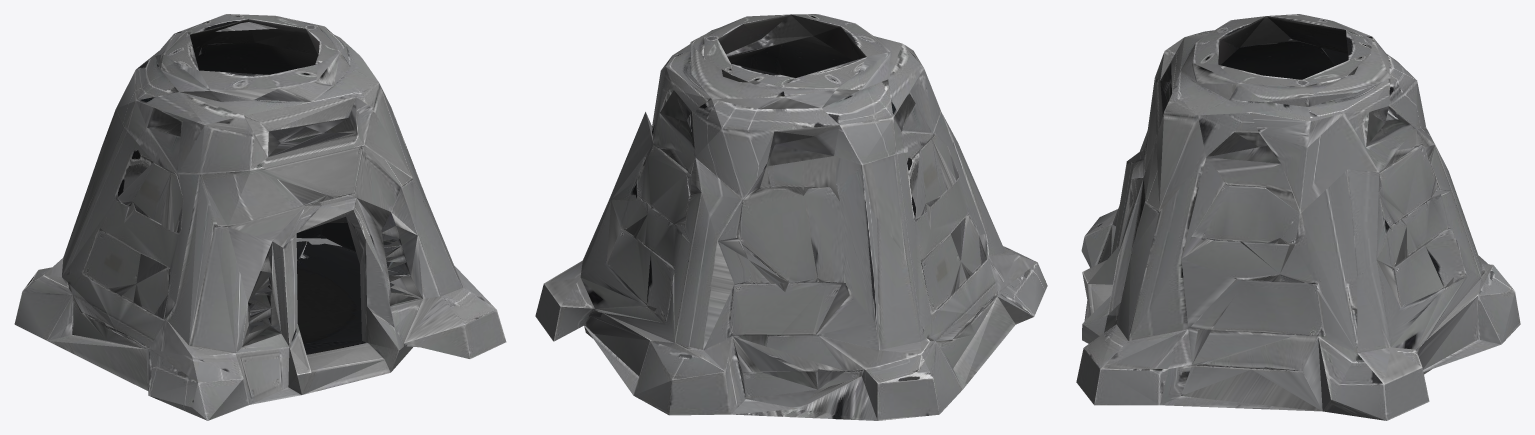
File: shared_flak_tower_large_option_lod1.glb
The picture shows the model from 3 angles, left to right: view 1: azimuth 30°, elevation 25°; view 2: azimuth 150°, elevation 25°; view 3: azimuth 270°, elevation 25°; orthographic projection. The views are drawn at different scales.
Visible parts, largest first — view 1: mesh_node; view 2: mesh_node; view 3: mesh_node.
Boxes of the visible parts, left/top/right/bottom form: mesh_node: left=14, top=14, right=506, bottom=420; mesh_node: left=535, top=14, right=1047, bottom=420; mesh_node: left=1076, top=14, right=1520, bottom=420.
Bounding box in the file's own units: 8.04 × 5.35 × 7.79.
1 material, 1 textured.
